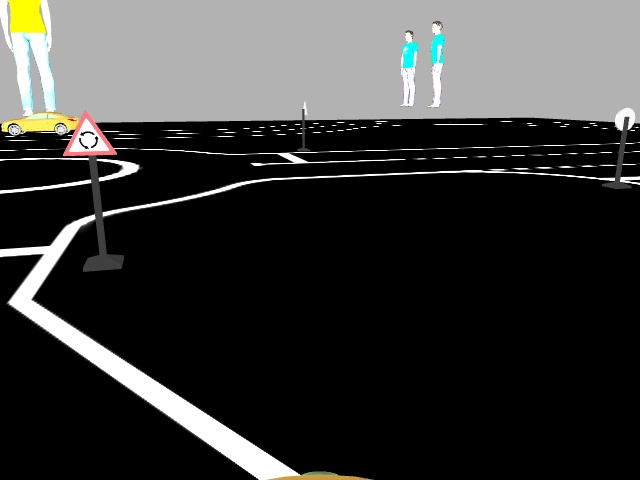Roundabout: (61, 109, 118, 157)
